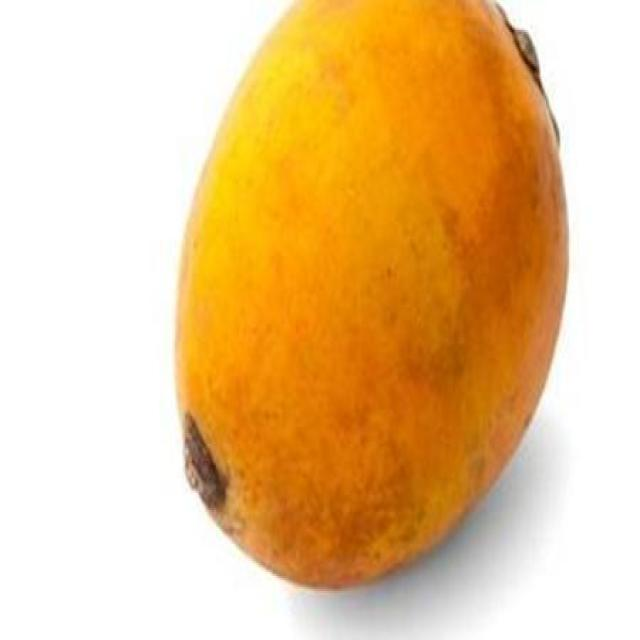good: (172, 0, 572, 593)
